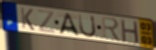A: (58, 12, 81, 37)
H: (120, 18, 141, 45)
K: (20, 7, 36, 32)
R: (101, 16, 122, 43)
U: (78, 13, 97, 39)
Z: (36, 9, 56, 34)
